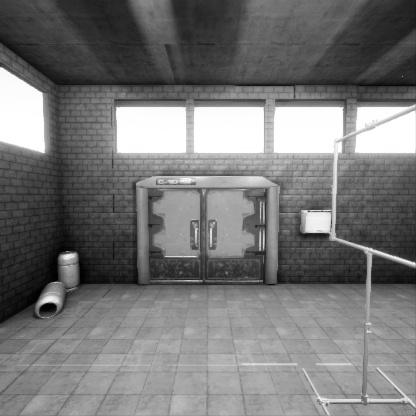gate: (331, 148, 416, 333)
